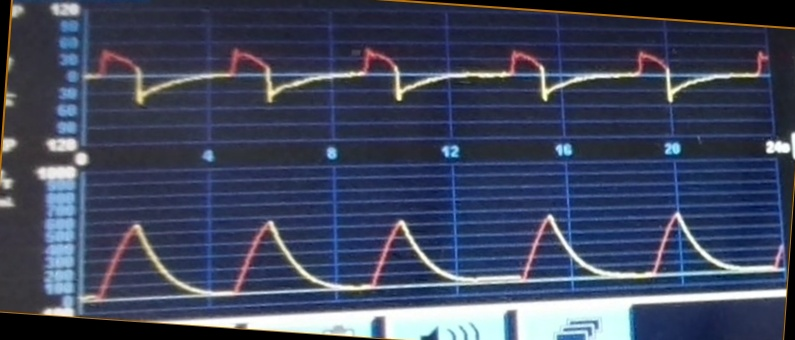Normal Flow: (88, 29, 769, 131)
Normal Volume: (87, 195, 786, 298)
